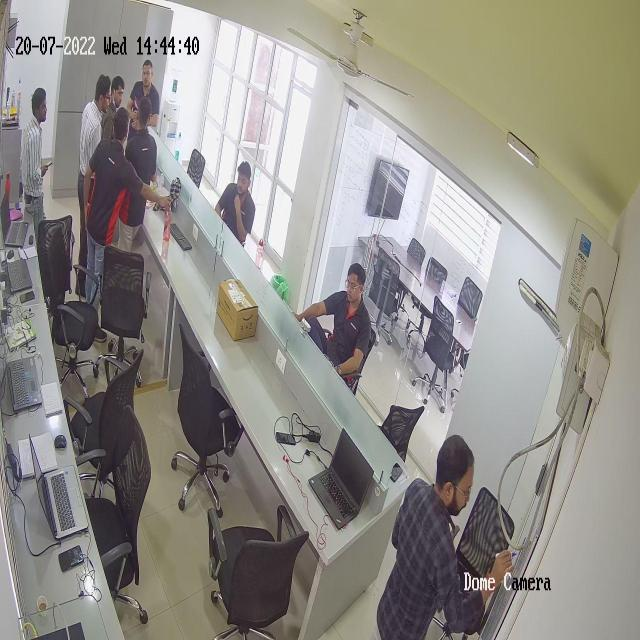chair: (199, 493, 305, 639), (79, 407, 153, 592), (170, 328, 239, 521), (58, 348, 140, 491), (38, 215, 98, 368), (98, 240, 152, 384), (462, 469, 514, 594), (417, 294, 459, 415), (82, 157, 119, 290), (363, 240, 402, 351), (33, 213, 76, 307), (378, 398, 426, 466), (459, 274, 482, 328), (184, 145, 205, 193), (425, 252, 449, 291), (408, 233, 426, 275)
keyboard: (166, 218, 195, 262)
laptop: (20, 428, 90, 538), (311, 416, 374, 530), (0, 321, 45, 417), (3, 231, 35, 304), (0, 183, 29, 250)
person: (387, 429, 487, 640), (82, 70, 134, 297), (78, 96, 125, 304), (302, 256, 376, 388), (78, 71, 112, 304), (17, 86, 55, 232), (78, 74, 110, 245), (217, 156, 260, 248), (80, 73, 110, 202), (107, 71, 135, 193), (124, 106, 159, 196), (130, 58, 162, 139), (104, 74, 132, 147)
phone: (56, 542, 87, 572), (274, 422, 297, 444), (20, 287, 35, 306), (41, 152, 55, 172)
